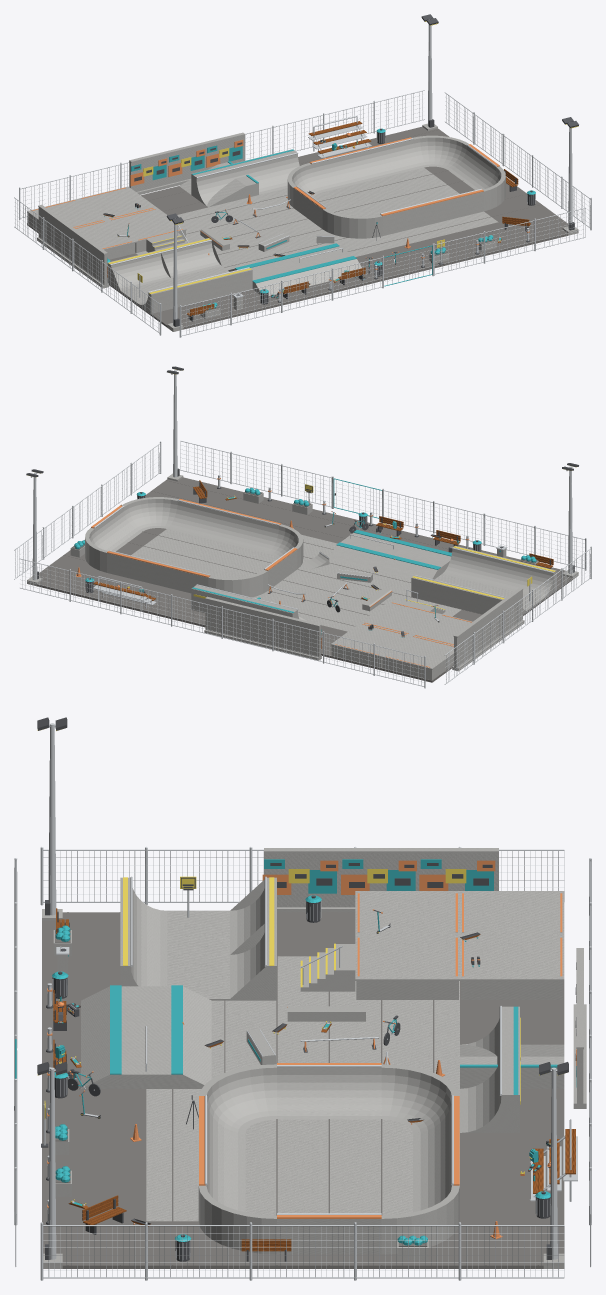
Rendered from skate-park-and-street-sports-riverside-c-822d7a9e-starter-scene.glb.
The picture shows the model from 3 angles, top to bottom: view 1: azimuth 30°, elevation 25°; view 2: azimuth 150°, elevation 25°; view 3: azimuth 270°, elevation 25°; orthographic projection. The views are drawn at different scales.
Visible parts, largest first — view 1: 065-half-pipe-section/half-pipe-section-concrete, 066-half-pipe-section/half-pipe-section-concrete, 059-raised-pad-block/raised-pad-block-concrete, 047-bowl-straight-section/bowl-straight-section-concrete, 046-bowl-straight-section/bowl-straight-section-concrete, 048-bowl-corner-section/bowl-corner-section-concrete, 064-quarter-pipe-ramp/quarter-pipe-ramp-concrete, 058-raised-pad-block/raised-pad-block-concrete, 016-flat-concrete-ground-tile/flat-concrete-ground-tile-conc, 068-funbox-with-grind-rail/funbox-with-grind-rail-concrete, 043-bowl-corner-section/bowl-corner-section-concrete, 034-flat-concrete-ground-tile/flat-concrete-ground-tile-conc (+68 smaller); view 2: 066-half-pipe-section/half-pipe-section-concrete, 065-half-pipe-section/half-pipe-section-concrete, 056-raised-pad-block/raised-pad-block-concrete, 058-raised-pad-block/raised-pad-block-concrete, 041-bowl-straight-section/bowl-straight-section-concrete, 042-bowl-straight-section/bowl-straight-section-concrete, 067-funbox/funbox-concrete, 068-funbox-with-grind-rail/funbox-with-grind-rail-concrete, 040-bowl-corner-section/bowl-corner-section-concrete, 032-flat-concrete-ground-tile/flat-concrete-ground-tile-conc, 027-flat-concrete-ground-tile/flat-concrete-ground-tile-conc, 103-graffiti-wall-panel/graffiti-wall-panel-concrete (+65 smaller); view 3: 066-half-pipe-section/half-pipe-section-concrete, 065-half-pipe-section/half-pipe-section-concrete, 059-raised-pad-block/raised-pad-block-concrete, 058-raised-pad-block/raised-pad-block-concrete, 068-funbox-with-grind-rail/funbox-with-grind-rail-concrete, 044-bowl-straight-section/bowl-straight-section-concrete, 067-funbox/funbox-concrete, 027-flat-concrete-ground-tile/flat-concrete-ground-tile-conc, 056-raised-pad-block/raised-pad-block-concrete, 057-raised-pad-block/raised-pad-block-concrete, 011-flat-concrete-ground-tile/flat-concrete-ground-tile-conc, 035-flat-concrete-ground-tile/flat-concrete-ground-tile-conc (+62 smaller).
Part boxes in pixels (x1,y1,x2,y2): 065-half-pipe-section/half-pipe-section-concrete: (107, 250, 201, 313); 066-half-pipe-section/half-pipe-section-concrete: (158, 238, 252, 301); 059-raised-pad-block/raised-pad-block-concrete: (107, 208, 186, 252); 047-bowl-straight-section/bowl-straight-section-concrete: (362, 139, 423, 179); 046-bowl-straight-section/bowl-straight-section-concrete: (311, 152, 372, 191); 048-bowl-corner-section/bowl-corner-section-concrete: (412, 135, 469, 169); 064-quarter-pipe-ramp/quarter-pipe-ramp-concrete: (242, 149, 299, 194); 058-raised-pad-block/raised-pad-block-concrete: (78, 186, 157, 219); 016-flat-concrete-ground-tile/flat-concrete-ground-tile-conc: (208, 195, 287, 228); 068-funbox-with-grind-rail/funbox-with-grind-rail-concrete: (289, 246, 361, 284); 043-bowl-corner-section/bowl-corner-section-concrete: (322, 208, 382, 238); 034-flat-concrete-ground-tile/flat-concrete-ground-tile-conc: (448, 222, 527, 257); 066-half-pipe-section/half-pipe-section-concrete: (411, 546, 505, 609); 065-half-pipe-section/half-pipe-section-concrete: (462, 558, 556, 614); 056-raised-pad-block/raised-pad-block-concrete: (381, 635, 453, 680); 058-raised-pad-block/raised-pad-block-concrete: (331, 623, 410, 667); 041-bowl-straight-section/bowl-straight-section-concrete: (167, 501, 228, 541); 042-bowl-straight-section/bowl-straight-section-concrete: (218, 513, 278, 553); 067-funbox/funbox-concrete: (379, 545, 450, 579); 068-funbox-with-grind-rail/funbox-with-grind-rail-concrete: (329, 532, 403, 571); 040-bowl-corner-section/bowl-corner-section-concrete: (121, 497, 178, 531); 032-flat-concrete-ground-tile/flat-concrete-ground-tile-conc: (136, 530, 215, 563); 027-flat-concrete-ground-tile/flat-concrete-ground-tile-conc: (187, 542, 266, 575); 103-graffiti-wall-panel/graffiti-wall-panel-concrete: (280, 615, 321, 660); 066-half-pipe-section/half-pipe-section-concrete: (120, 921, 276, 1000); 065-half-pipe-section/half-pipe-section-concrete: (120, 877, 276, 954); 059-raised-pad-block/raised-pad-block-concrete: (355, 935, 459, 999); 058-raised-pad-block/raised-pad-block-concrete: (460, 935, 564, 999); 068-funbox-with-grind-rail/funbox-with-grind-rail-concrete: (81, 1030, 211, 1088); 044-bowl-straight-section/bowl-straight-section-concrete: (277, 1067, 381, 1119); 067-funbox/funbox-concrete: (81, 986, 211, 1044); 027-flat-concrete-ground-tile/flat-concrete-ground-tile-conc: (251, 1133, 355, 1177); 056-raised-pad-block/raised-pad-block-concrete: (460, 891, 564, 934); 057-raised-pad-block/raised-pad-block-concrete: (355, 891, 459, 934); 011-flat-concrete-ground-tile/flat-concrete-ground-tile-conc: (355, 1000, 459, 1044); 035-flat-concrete-ground-tile/flat-concrete-ground-tile-conc: (460, 1221, 564, 1268).
Size of the model in its own units: 34.11 by 8.41 by 22.13.
8 materials, 2 textured.
